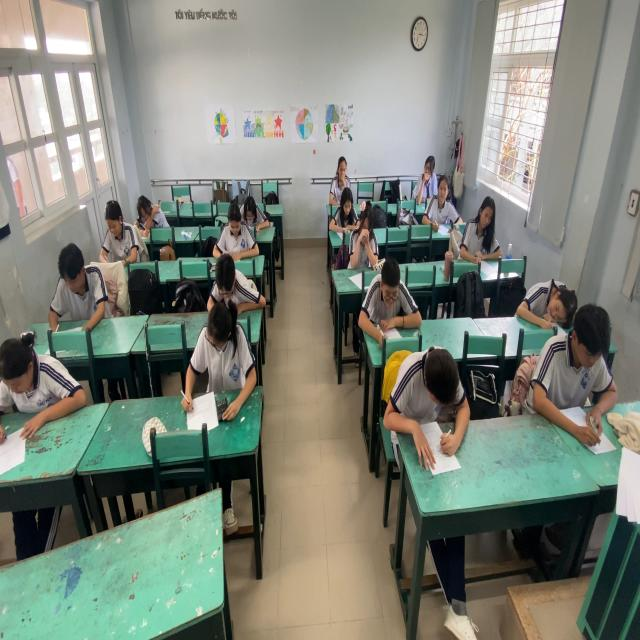not_cheating: (537, 288, 612, 446), (393, 333, 458, 467), (5, 328, 79, 442), (51, 237, 112, 343), (191, 308, 247, 412), (362, 249, 416, 337), (526, 252, 576, 328), (213, 257, 273, 320), (96, 196, 139, 272), (461, 183, 501, 264), (219, 206, 264, 257), (345, 198, 376, 262), (241, 191, 280, 238), (134, 181, 164, 240), (420, 146, 444, 212), (430, 175, 457, 231), (332, 183, 358, 236), (330, 154, 358, 199)
